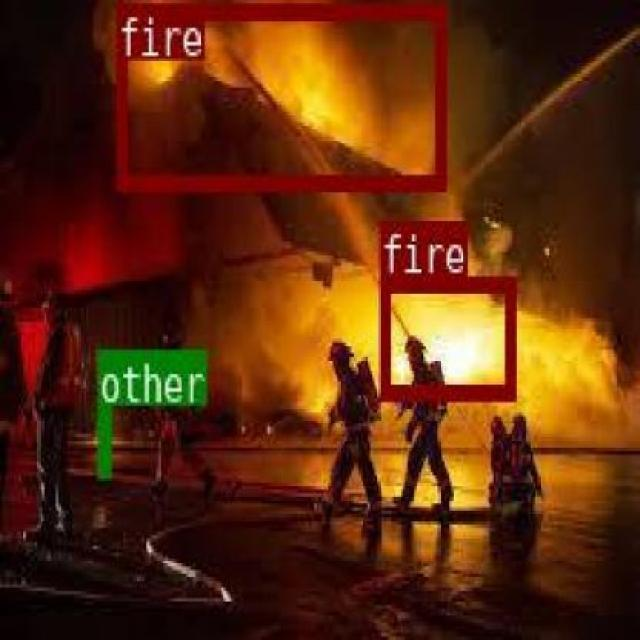Fire: (114, 1, 443, 188), (379, 275, 513, 397)
